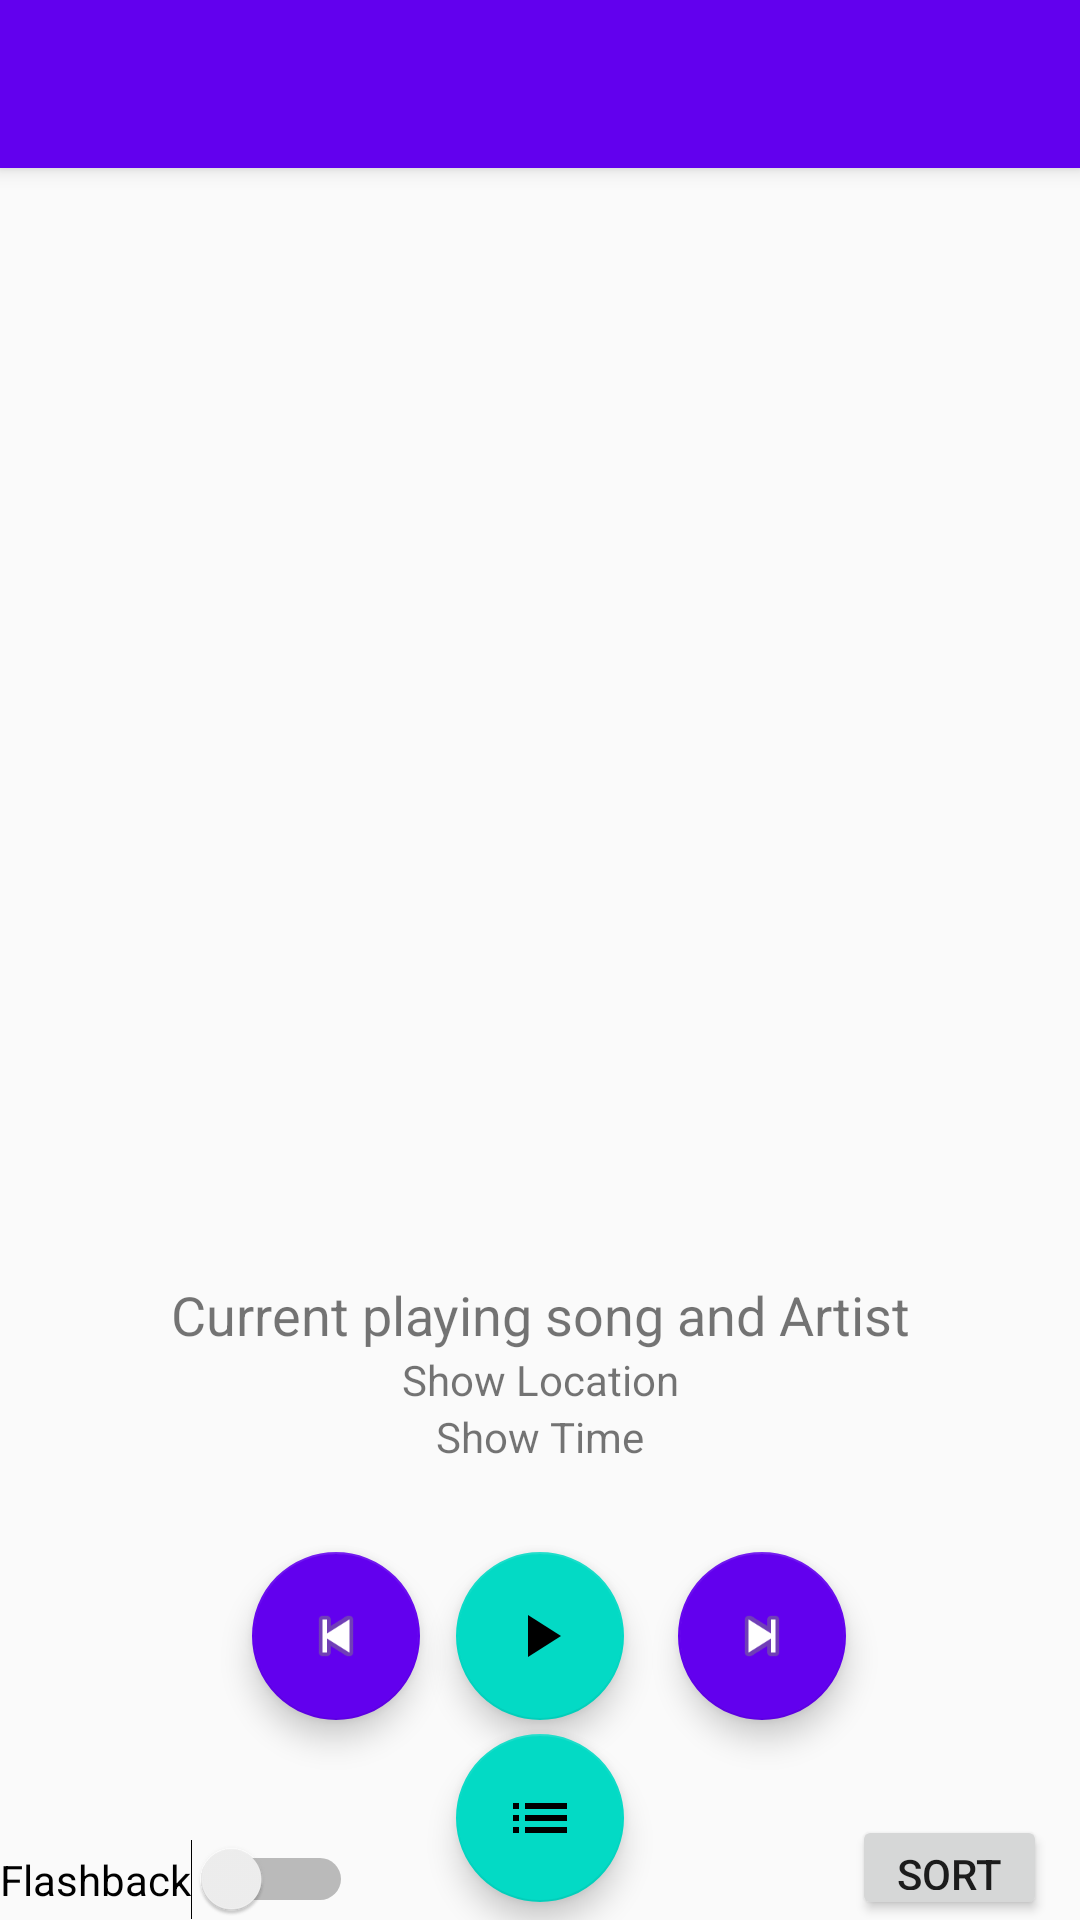

Named icons in this screenshot (1080*1920) and their centers, [x,y]:
list: [540,1818]
next: [762,1636]
play arrow: [540,1636]
previous: [336,1636]
